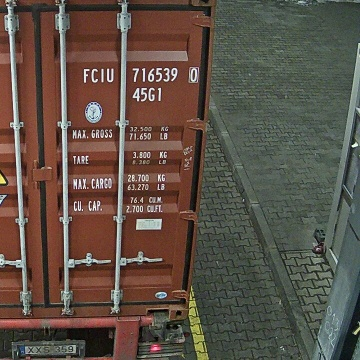serial_id: (83, 68, 197, 82)
